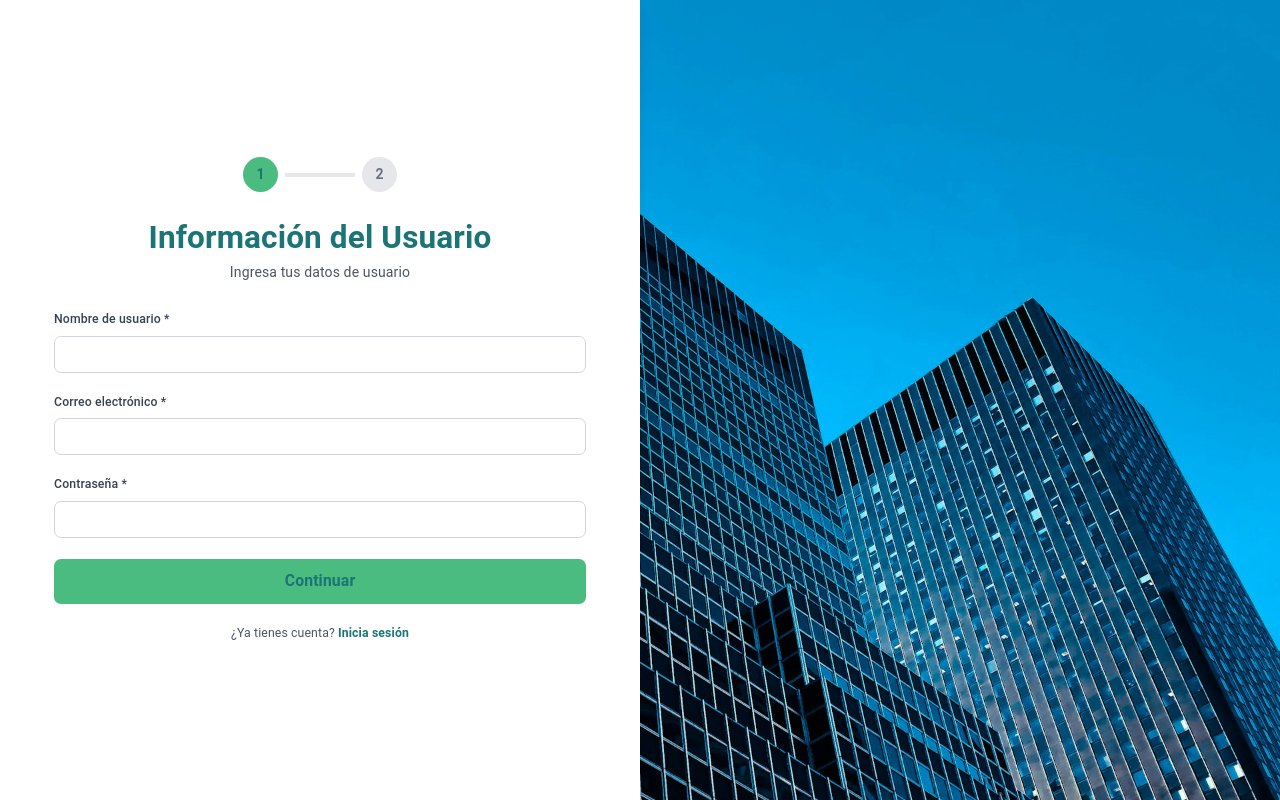
it: Register › advances to step 2 on user submit
This screenshot has width=1280, height=800.
In the field with test id "input-registro-nombre-usuario": (320, 354) [54,336,586,373], type "newuser"
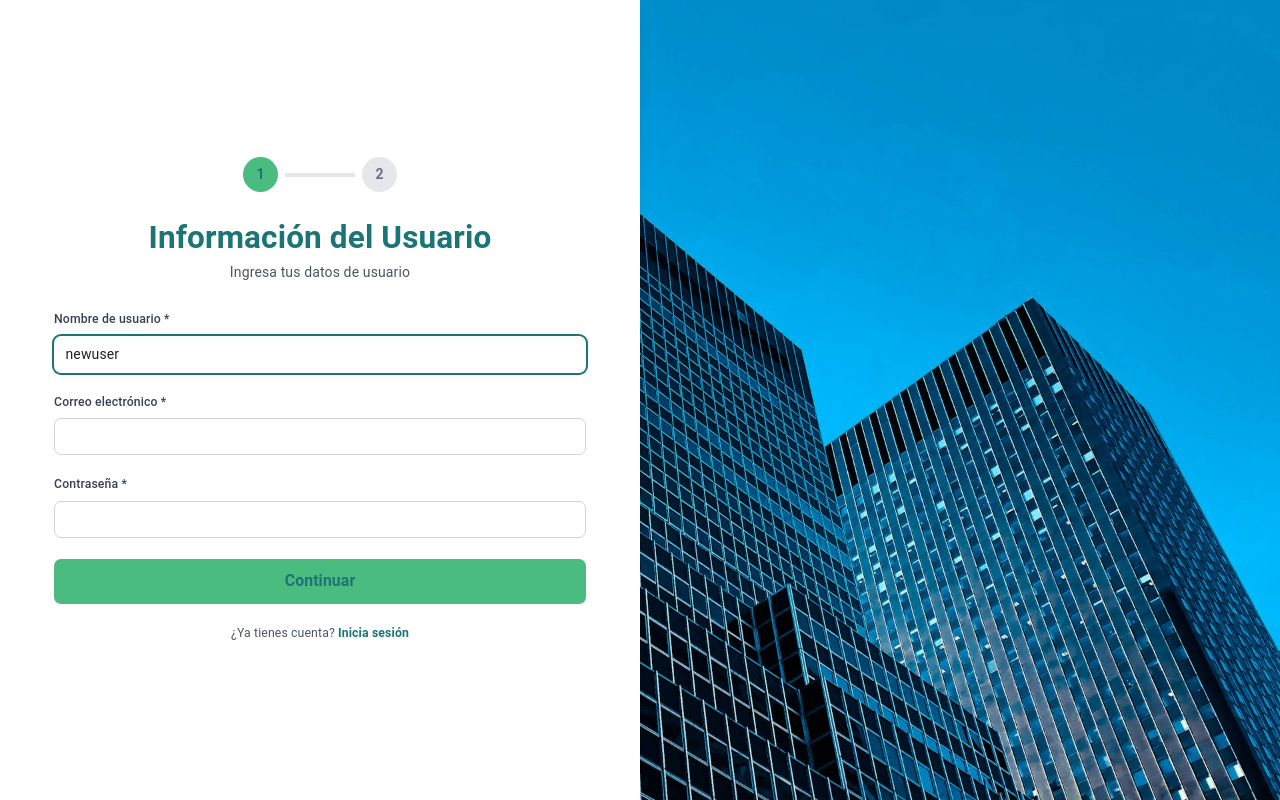
In the field with test id "input-registro-correo": (320, 437) [54,418,586,455], type "user@test.com"
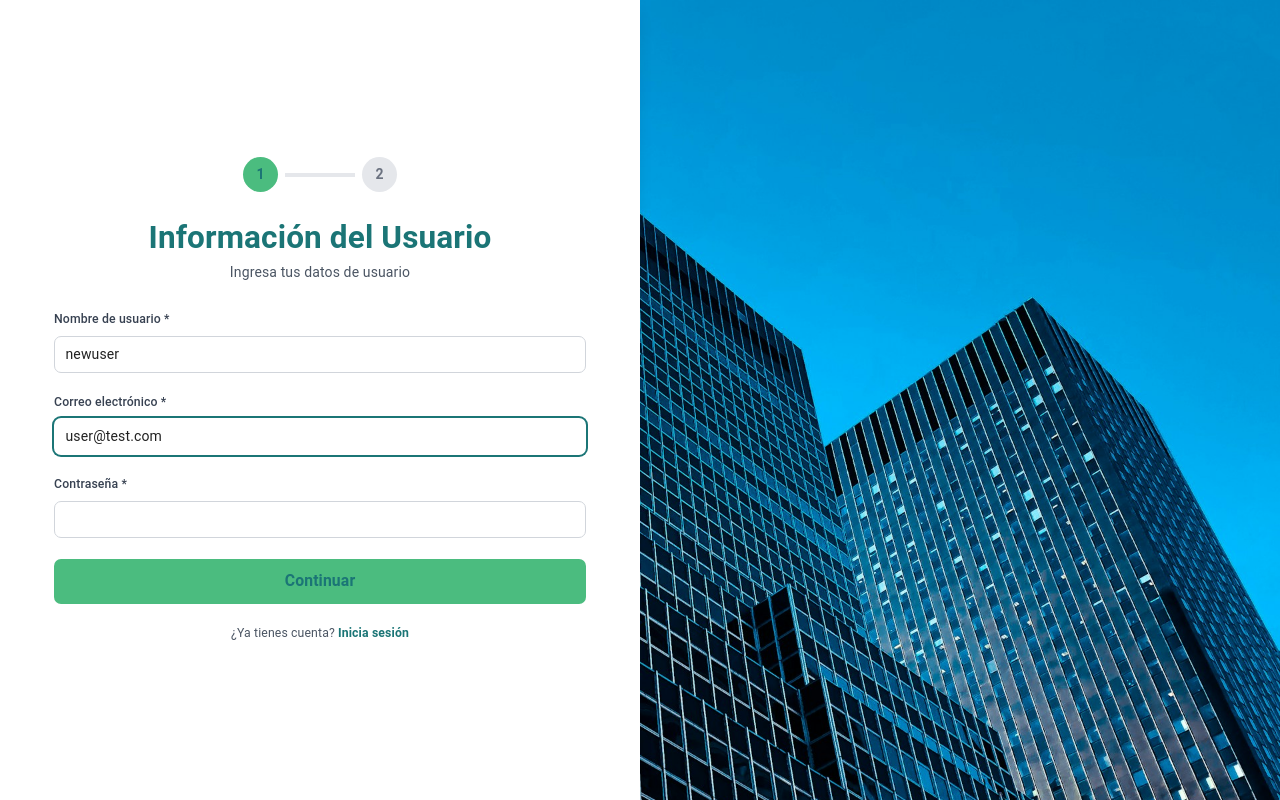
In the password field with test id "input-registro-password": (320, 519) [54,501,586,538], type "pass123"
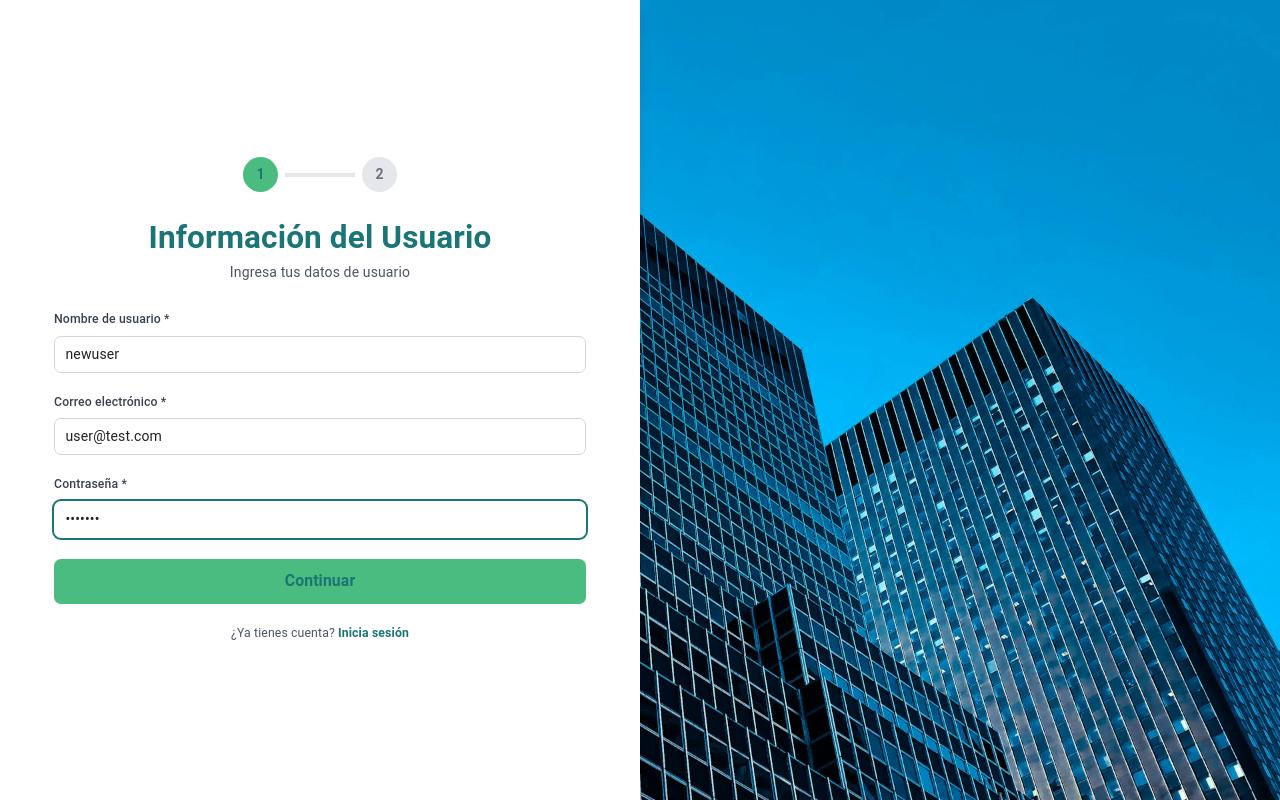
Click the button with test id "button-registro-continuar": (320, 582) [54,559,586,604]
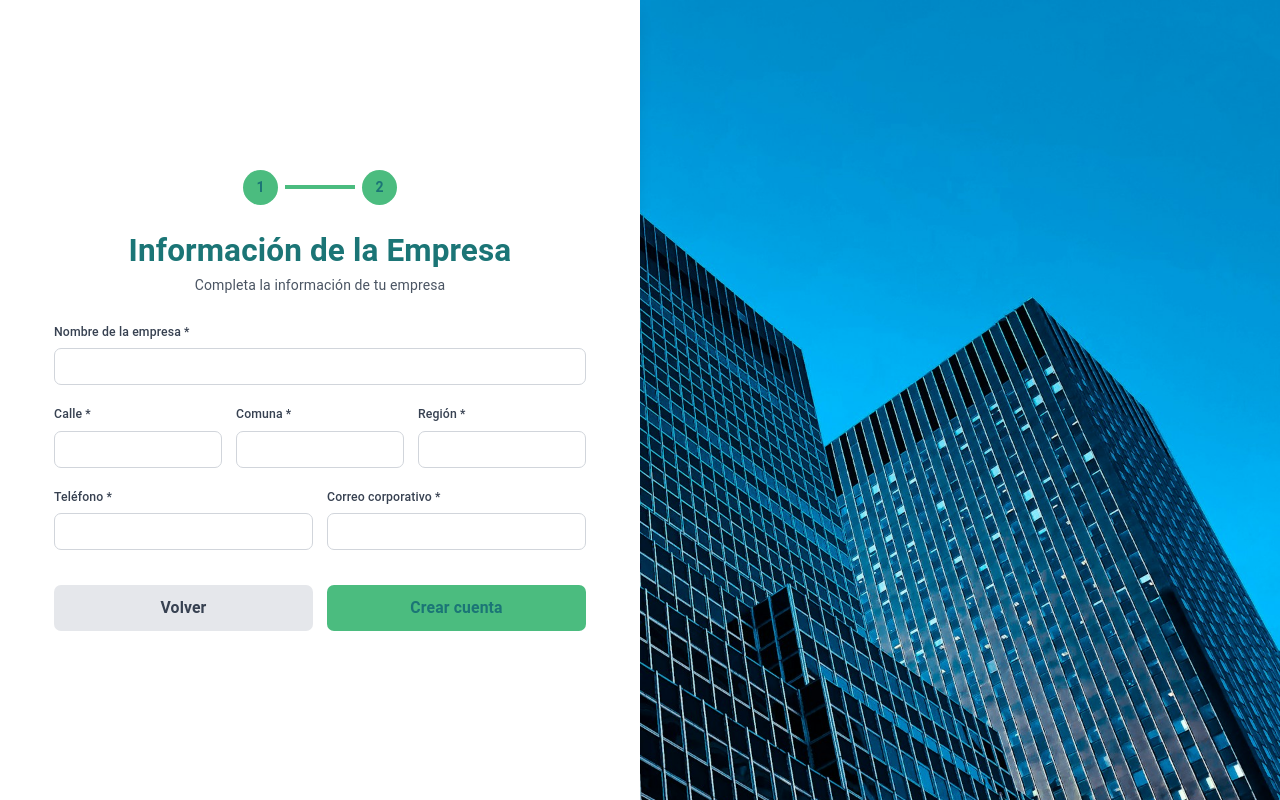
Expected: the field with test id "input-registro-nombre-empresa" is shown, [54,348,586,385]
